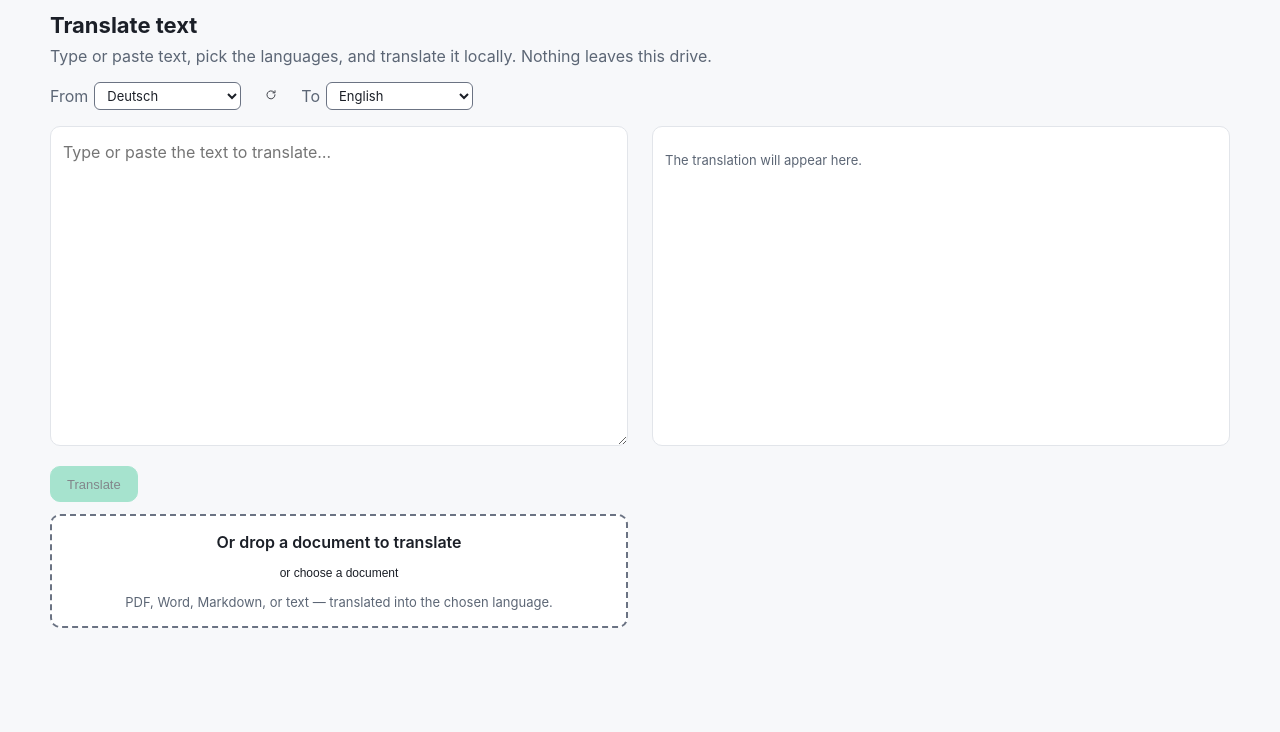
Test: TranslateScreen — language selects › swaps the source and target languages
The width and height of the screenshot is (1280, 732).
Step 1. Click the button named "Swap languages" → click(271, 96), box 253,82 -> 289,110
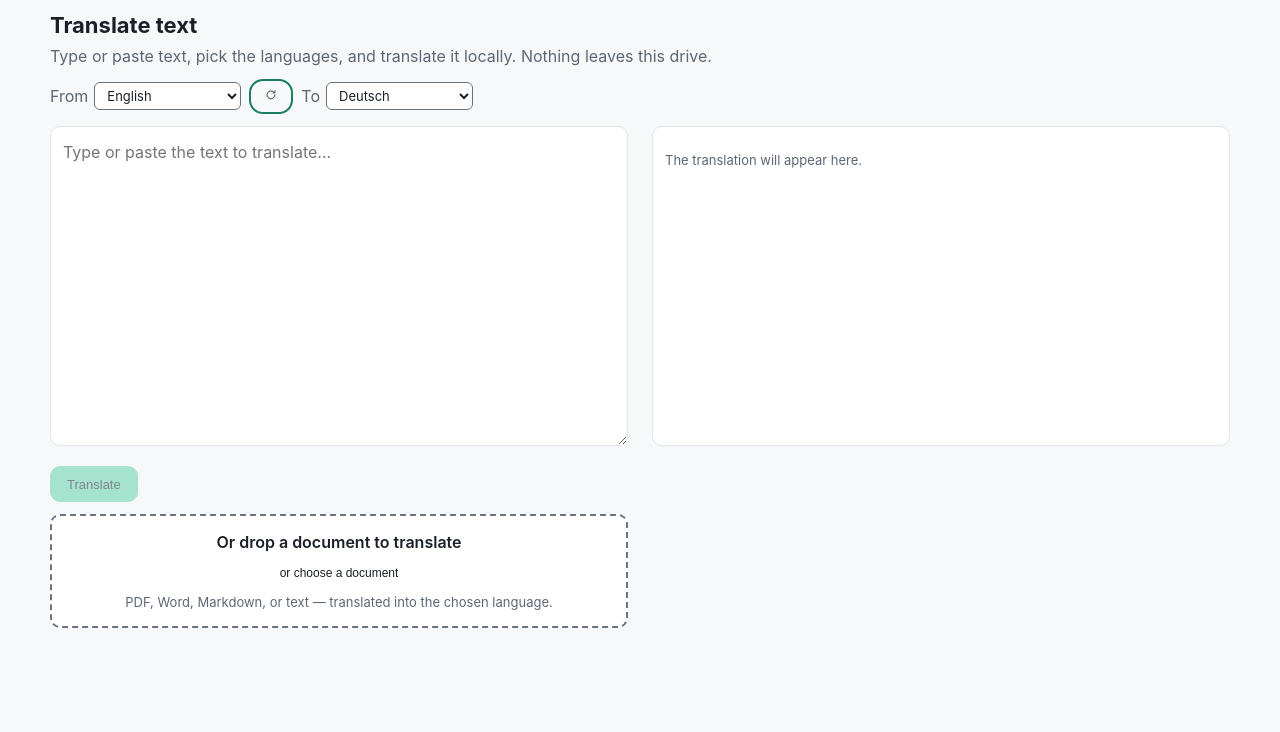
Result: the dropdown labelled "From" shows "English" at 94,82 -> 241,110
Result: the dropdown labelled "To" shows "Deutsch" at 326,82 -> 473,110
